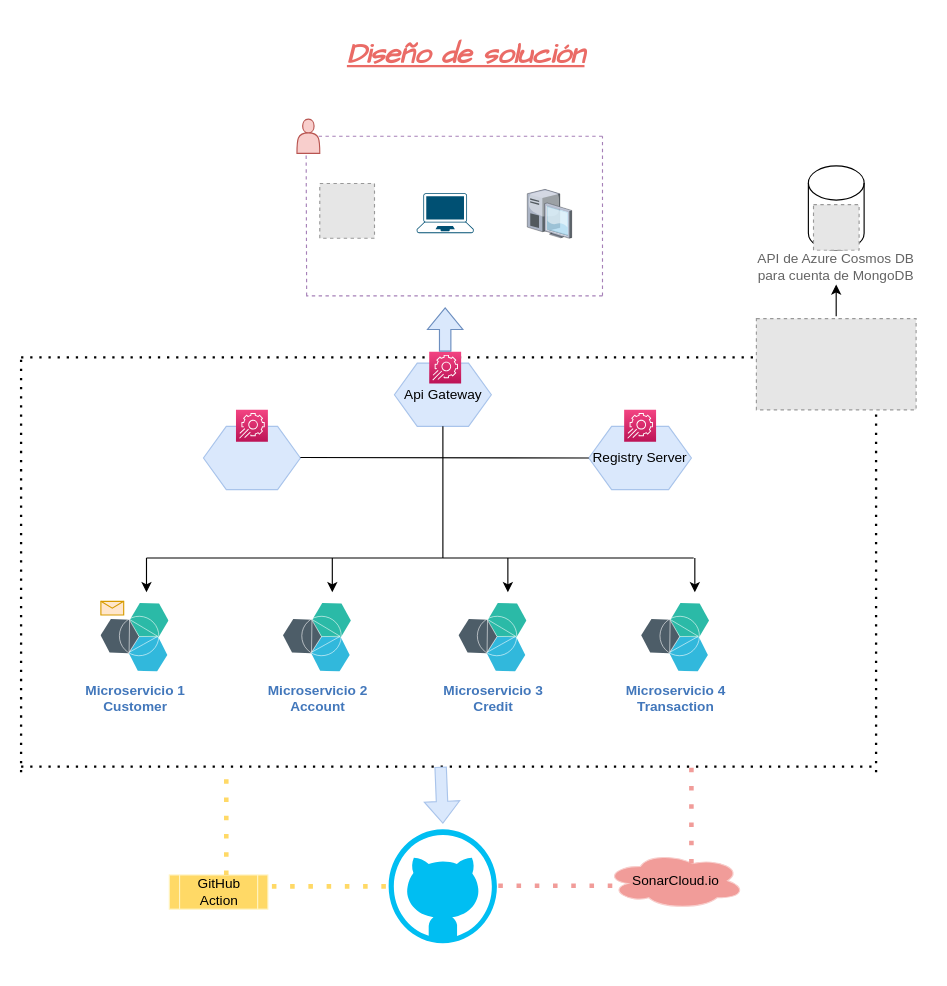
Some shapes in this 947 by 986 pixel diagram are drawn without their labels. Grey dashed boxes stand in for pictures. The shapes that lost their labels are listed below. From the top down, each one's centre as x and y in pixels, then its label:
At point (251, 457): "Config Server".
At point (442, 886): "Repositorio GitHub".
